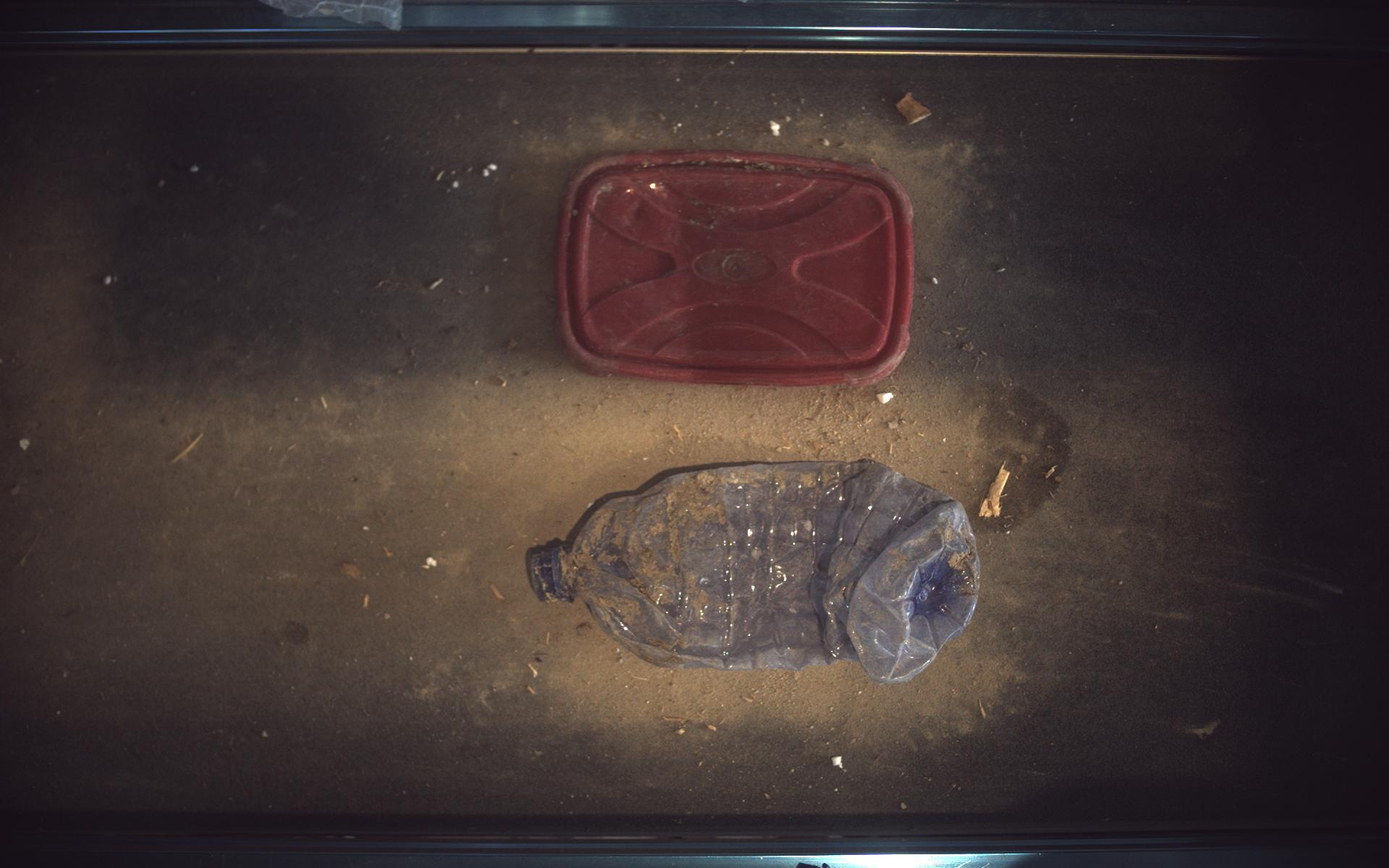general_w: (526, 460, 982, 684), (558, 150, 915, 386)
